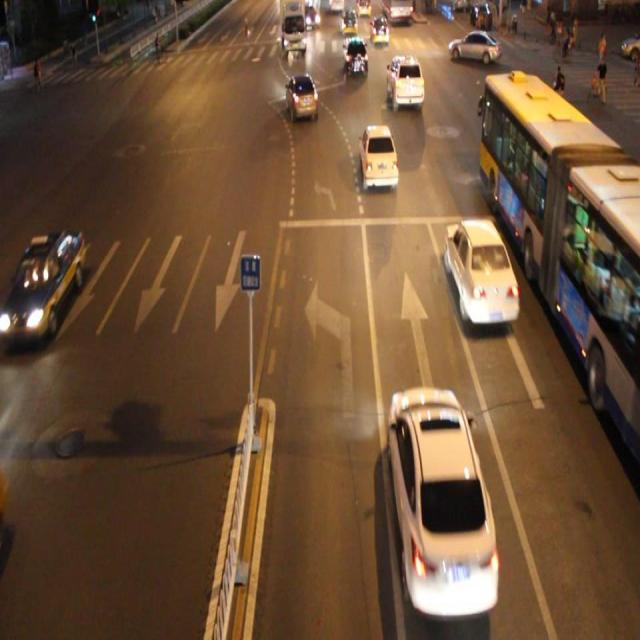car: (388, 385, 498, 607), (1, 229, 86, 340), (444, 217, 518, 322), (359, 123, 397, 190), (386, 56, 425, 109), (285, 70, 318, 122)
van: (476, 77, 640, 464)
